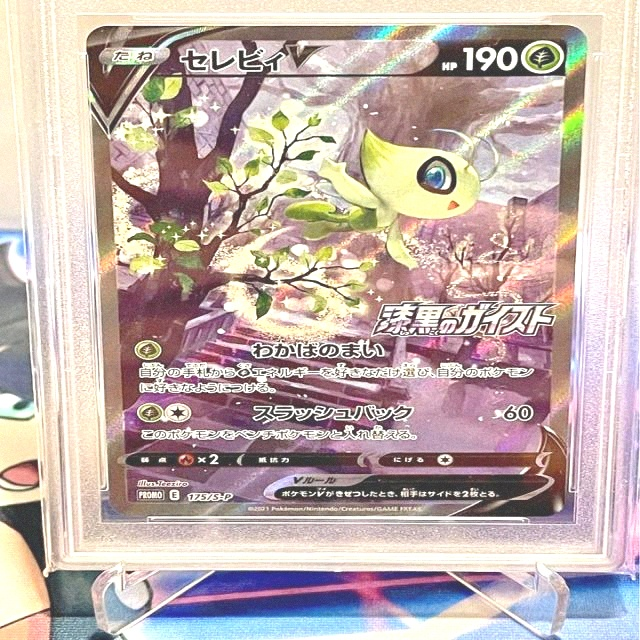card: (83, 24, 590, 518)
